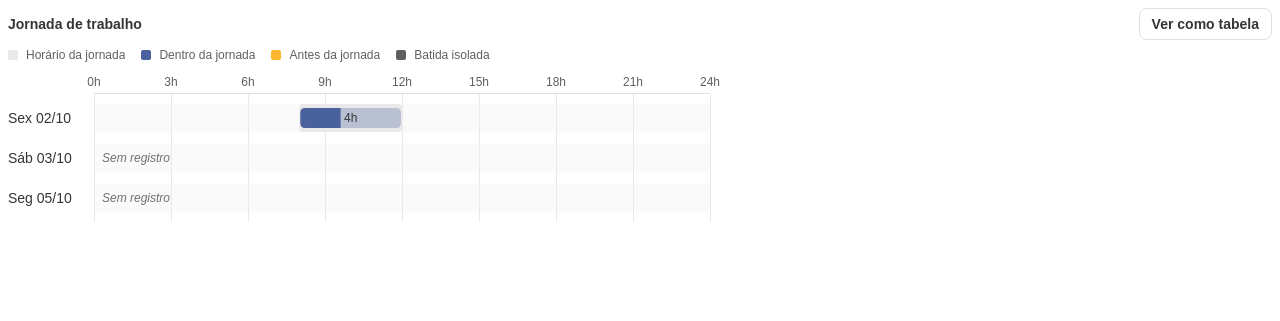
Test: ChartTimeline › mostra a coluna de progresso quando algum intervalo tem progresso
The width and height of the screenshot is (1280, 321).
Step 1. Click the button "Ver como tabela" → (1205, 24), box [1139,8,1272,40]
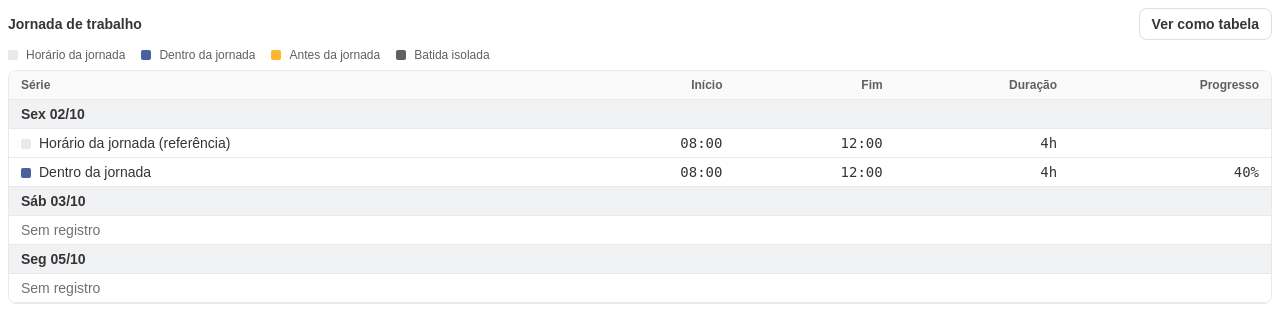
Now the column heading "Progresso" is shown, box [1069,71,1271,100]
Now the table shows "40%", box [1234,164,1259,180]
